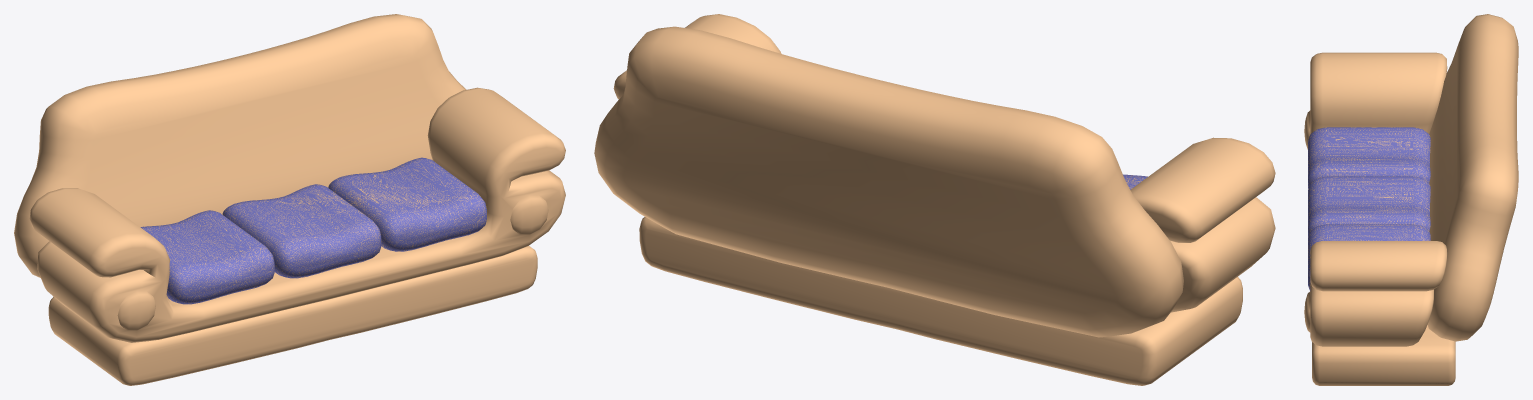
The model's file is sofa1_2.dae.
3 views of the same model, side by side, from view 1: azimuth 30°, elevation 25°; view 2: azimuth 150°, elevation 25°; view 3: azimuth 270°, elevation 25° (orthographic). The views are drawn at different scales.
Visible parts, largest first — view 1: sofa.dxf (×8); view 2: sofa.dxf (×3); view 3: sofa.dxf (×7).
Part boxes in pixels (x1,y1,x2,y2): sofa.dxf (×8): [14, 14, 565, 385]; sofa.dxf (×3): [594, 14, 1275, 385]; sofa.dxf (×7): [1304, 14, 1518, 385].
Bounding box in the file's own units: 85.58 × 35.43 × 37.95.
